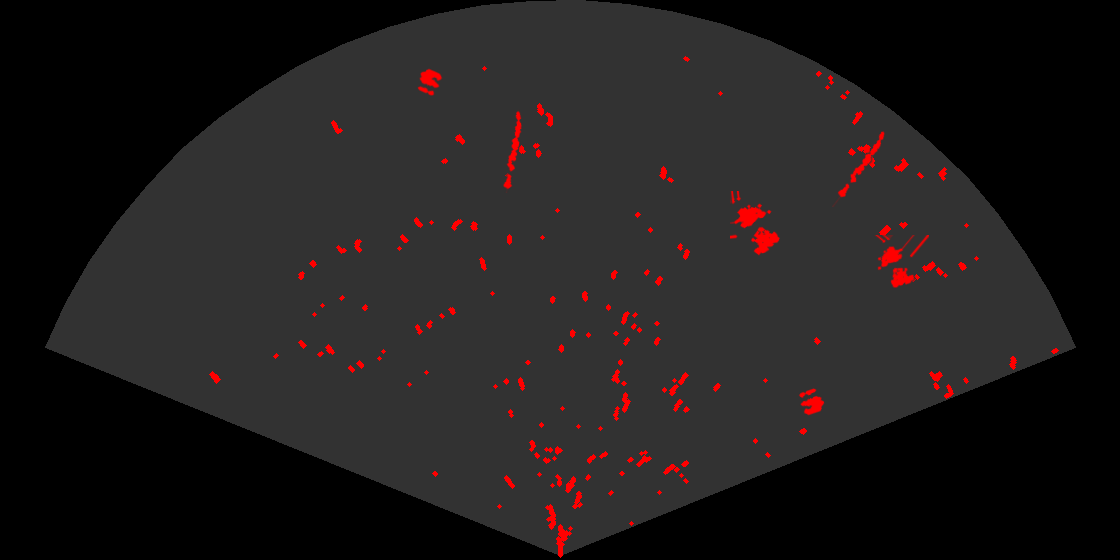ball: (797, 387, 826, 417), (416, 67, 444, 97)
cage: (730, 191, 781, 257), (873, 235, 929, 290)
chain: (832, 130, 886, 207), (502, 109, 523, 193)
